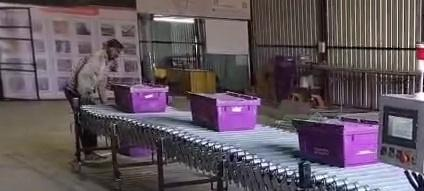box: (293, 119, 378, 166), (188, 92, 260, 131), (112, 84, 167, 112)
